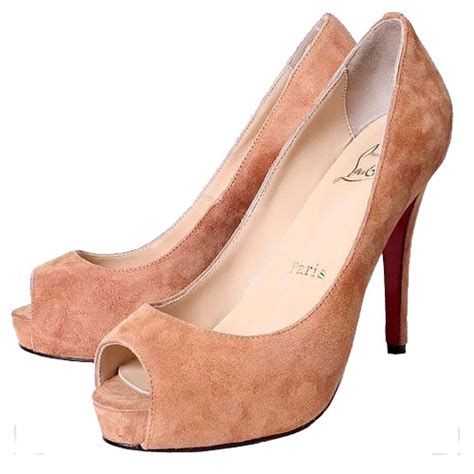gamuza: (11, 13, 454, 450)
